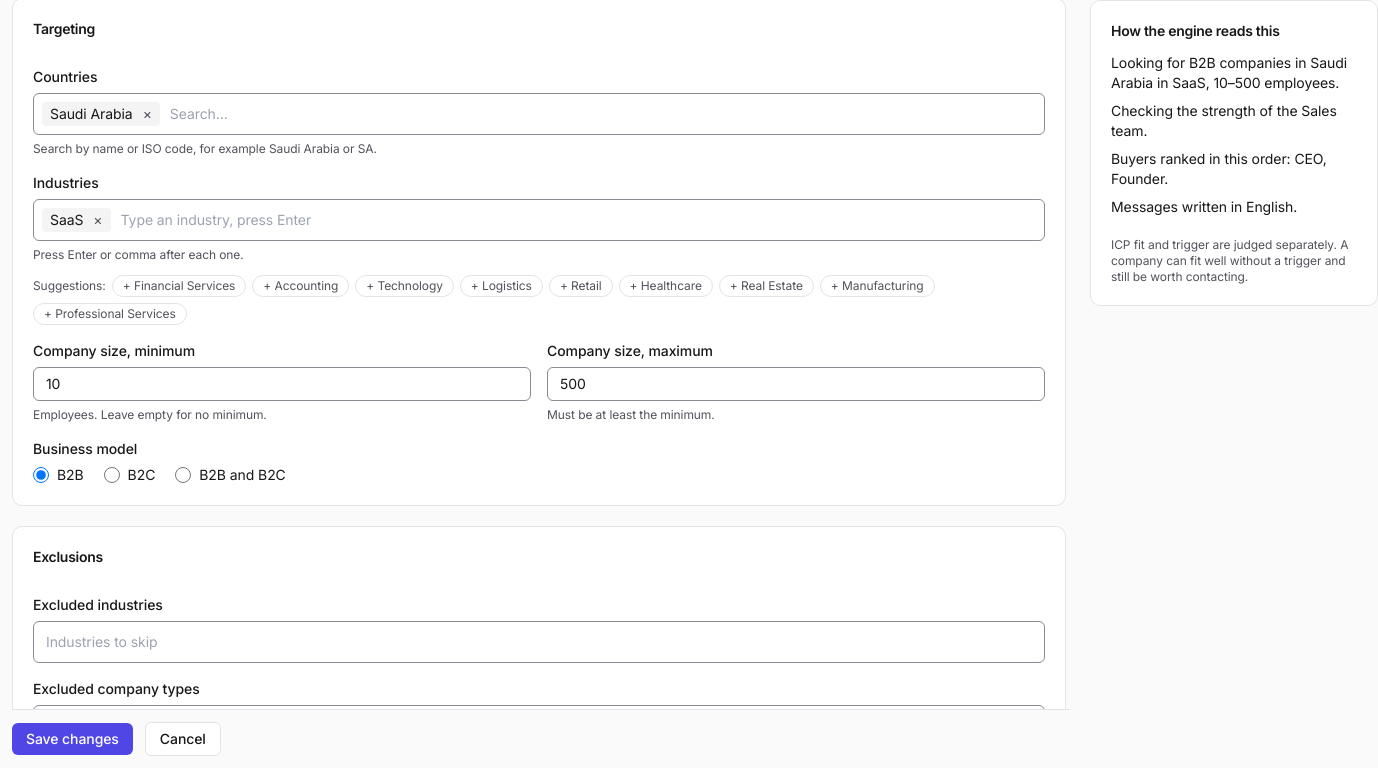
it: CampaignForm (edit) › sends only the changed fields and reports a new version
(page scrolled)
Replace the text in the field labelled "Company size, maximum" with "1000": (796, 384) x1=547 y1=367 x2=1045 y2=401
(page scrolled)
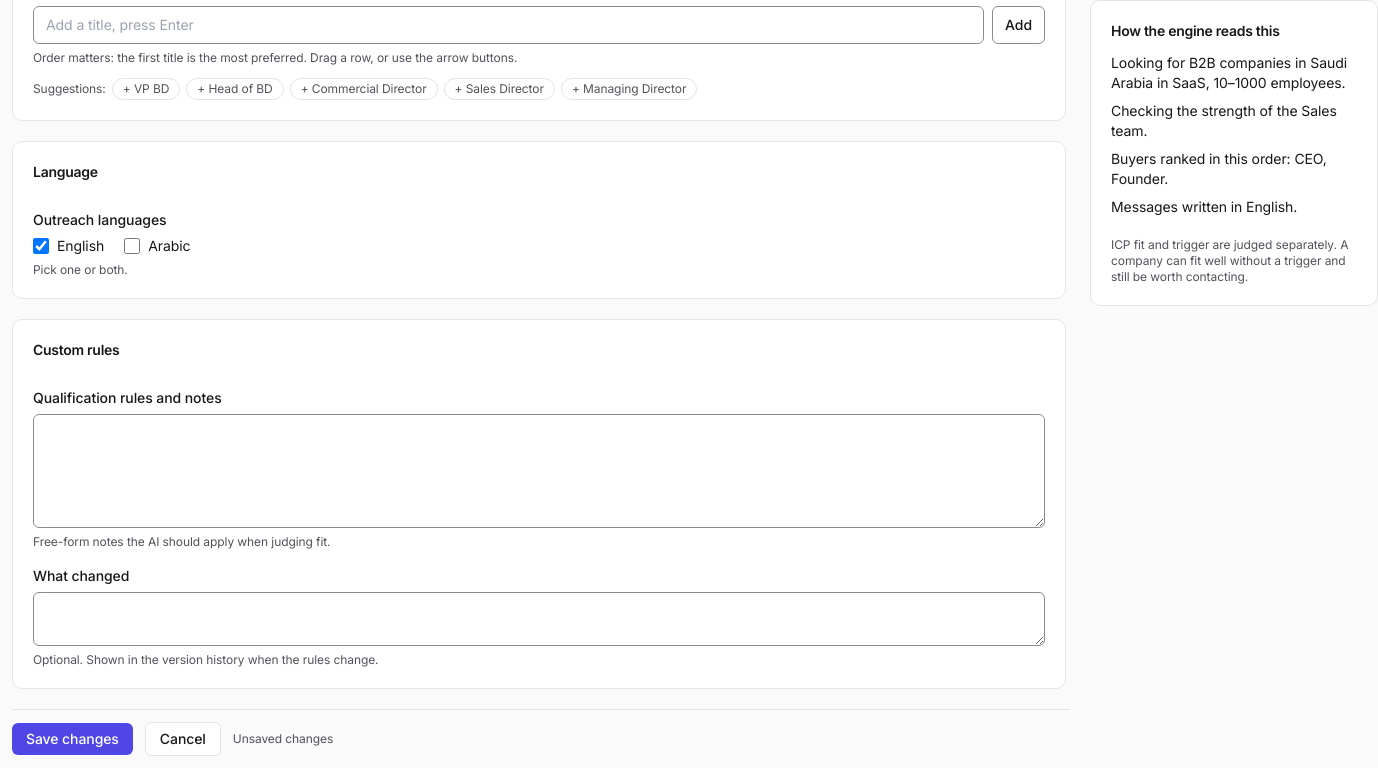
In the text box labelled "What changed": (539, 619) x1=33 y1=592 x2=1045 y2=646, type "Bigger firms"
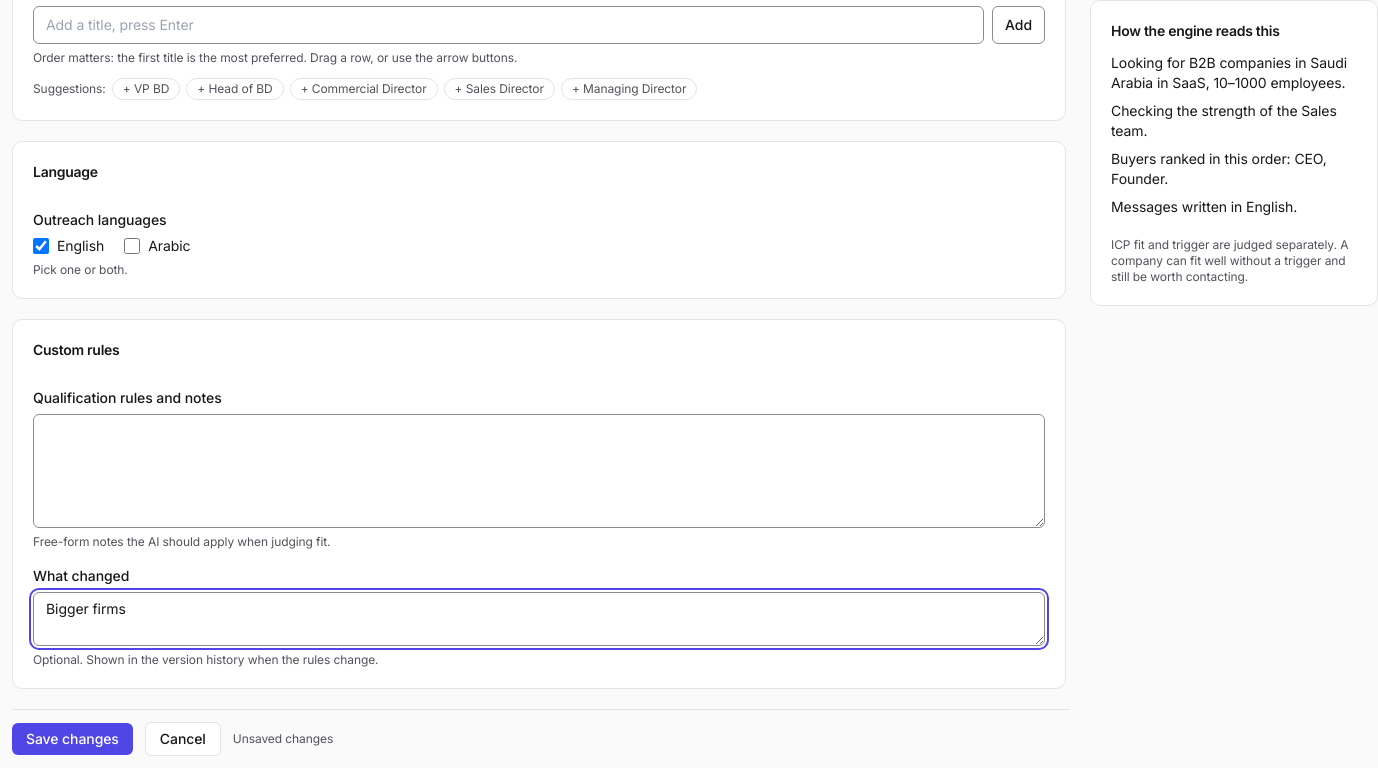
Click the button "Save changes": (72, 739) x1=12 y1=723 x2=133 y2=755
(page scrolled)
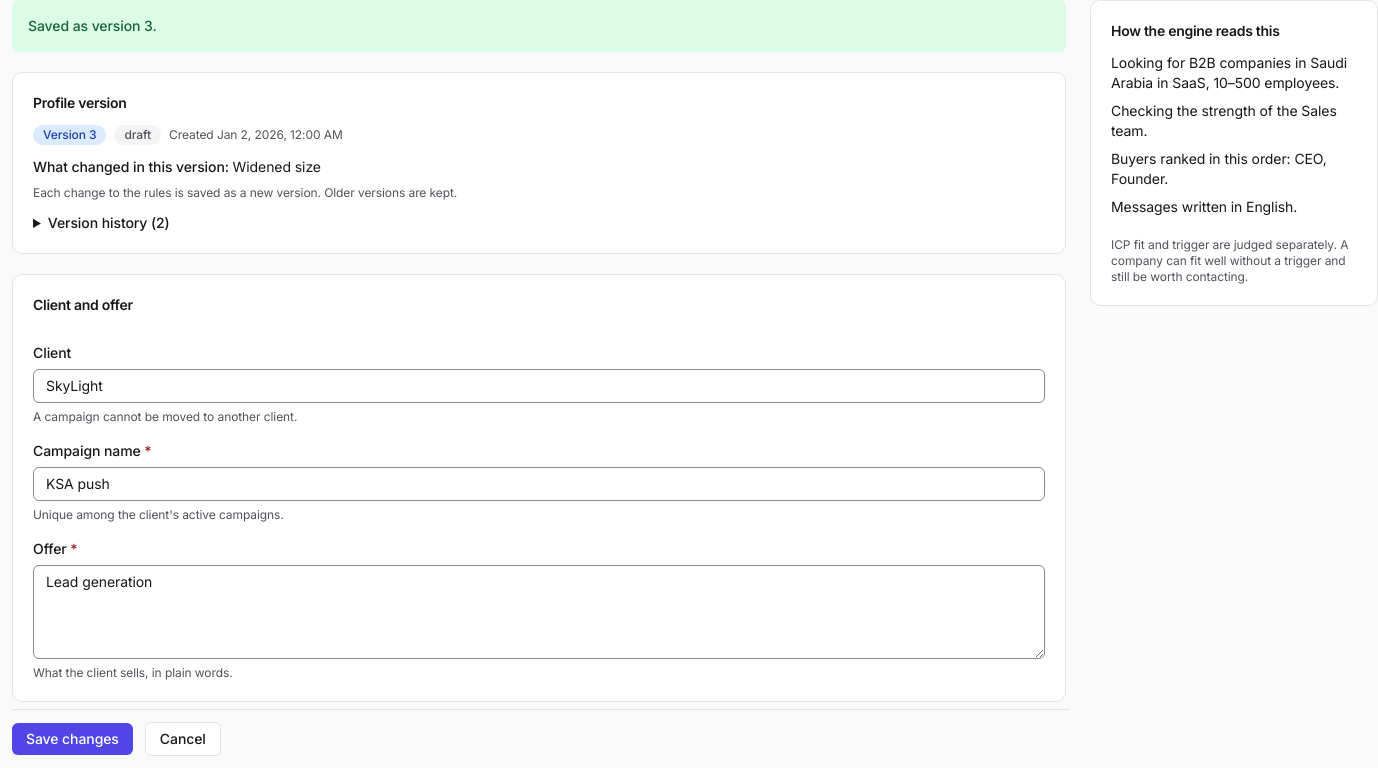
Check: the text "Saved as version 3." is shown, box x1=12 y1=0 x2=1066 y2=52
Check: the text "Version 3" is shown, box x1=33 y1=125 x2=106 y2=145
Check: the text "Unsaved changes" is gone
